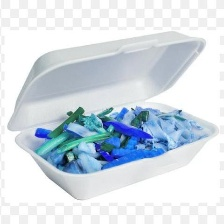foam_box: (1, 23, 224, 205)
